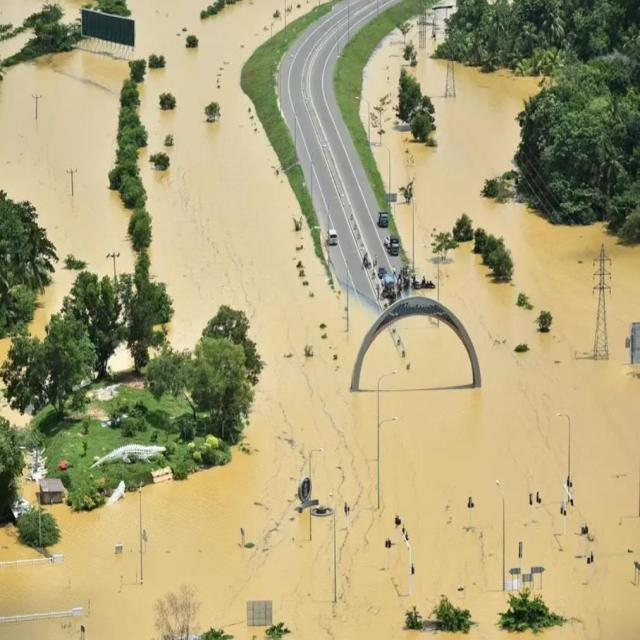flooded_areas: (2, 4, 318, 630), (340, 20, 630, 635)
